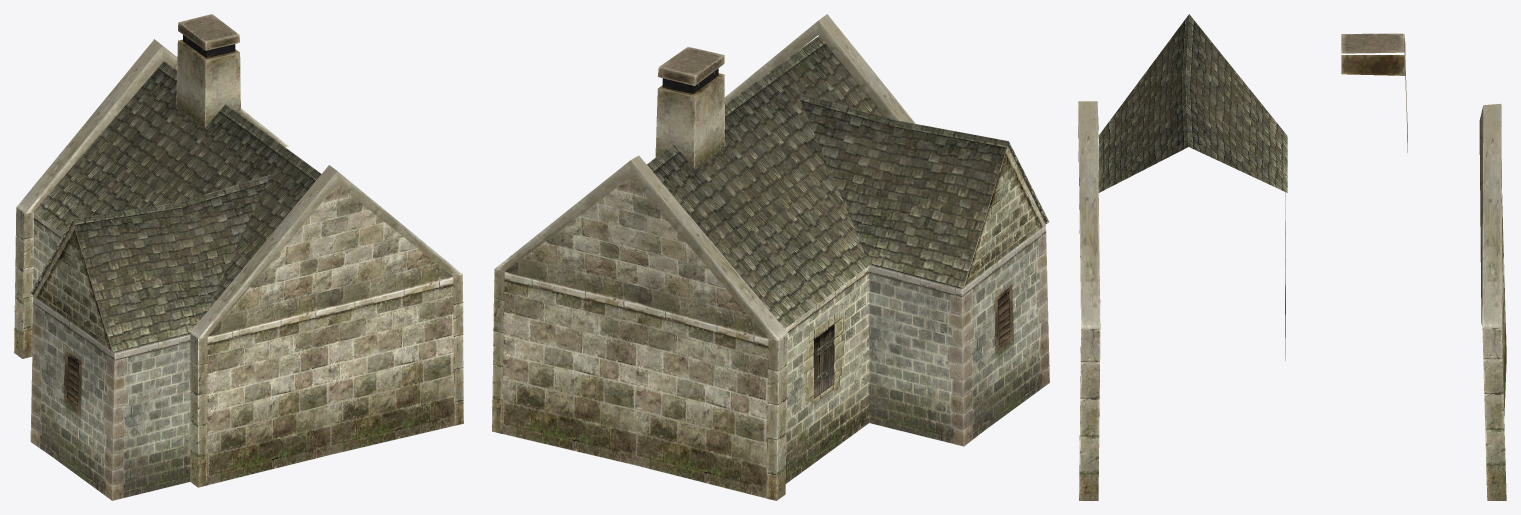
The model's file is OZ_09_sn_T03blgd03B.glb.
3 renders of one model, left to right at view 1: azimuth 30°, elevation 25°; view 2: azimuth 150°, elevation 25°; view 3: azimuth 270°, elevation 25°, orthographic. The views are drawn at different scales.
Visible parts, largest first — view 1: OM_09_sn_T03blgd03B; view 2: OM_09_sn_T03blgd03B; view 3: OM_09_sn_T03blgd03B.
Part boxes in pixels (<box>): OM_09_sn_T03blgd03B: <box>14,14,463,500</box>; OM_09_sn_T03blgd03B: <box>492,14,1049,500</box>; OM_09_sn_T03blgd03B: <box>1078,14,1506,500</box>.
Size of the model in its own units: 11.69 by 10.84 by 10.91.
5 materials, 5 textured.
